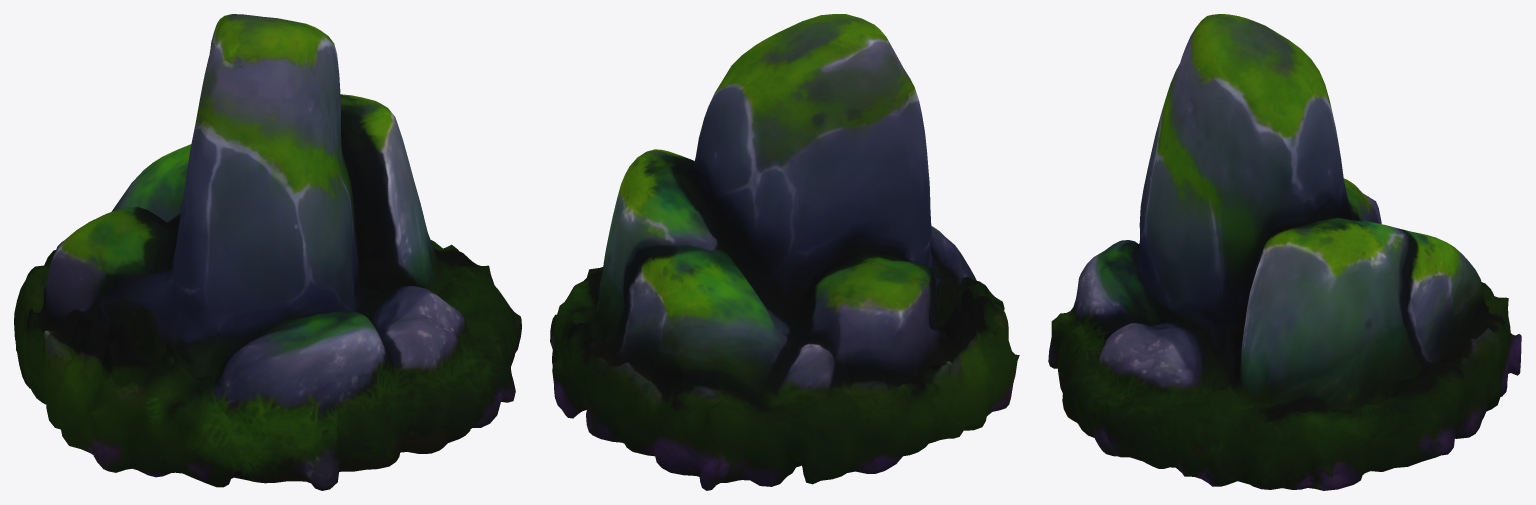
Rendered from ghibli_rock.glb.
3 renders of one model, left to right at view 1: azimuth 30°, elevation 25°; view 2: azimuth 150°, elevation 25°; view 3: azimuth 270°, elevation 25°, orthographic. The views are drawn at different scales.
Parts seen in each view (by area): view 1: Object_2; view 2: Object_2; view 3: Object_2.
Part boxes in pixels (left/top/right/bottom): Object_2: left=14, top=14, right=521, bottom=490; Object_2: left=550, top=14, right=1019, bottom=490; Object_2: left=1048, top=14, right=1521, bottom=490.
Bounding box in the file's own units: 98.11 × 84.03 × 99.51.
Materials: 1 (1 with a texture image).
